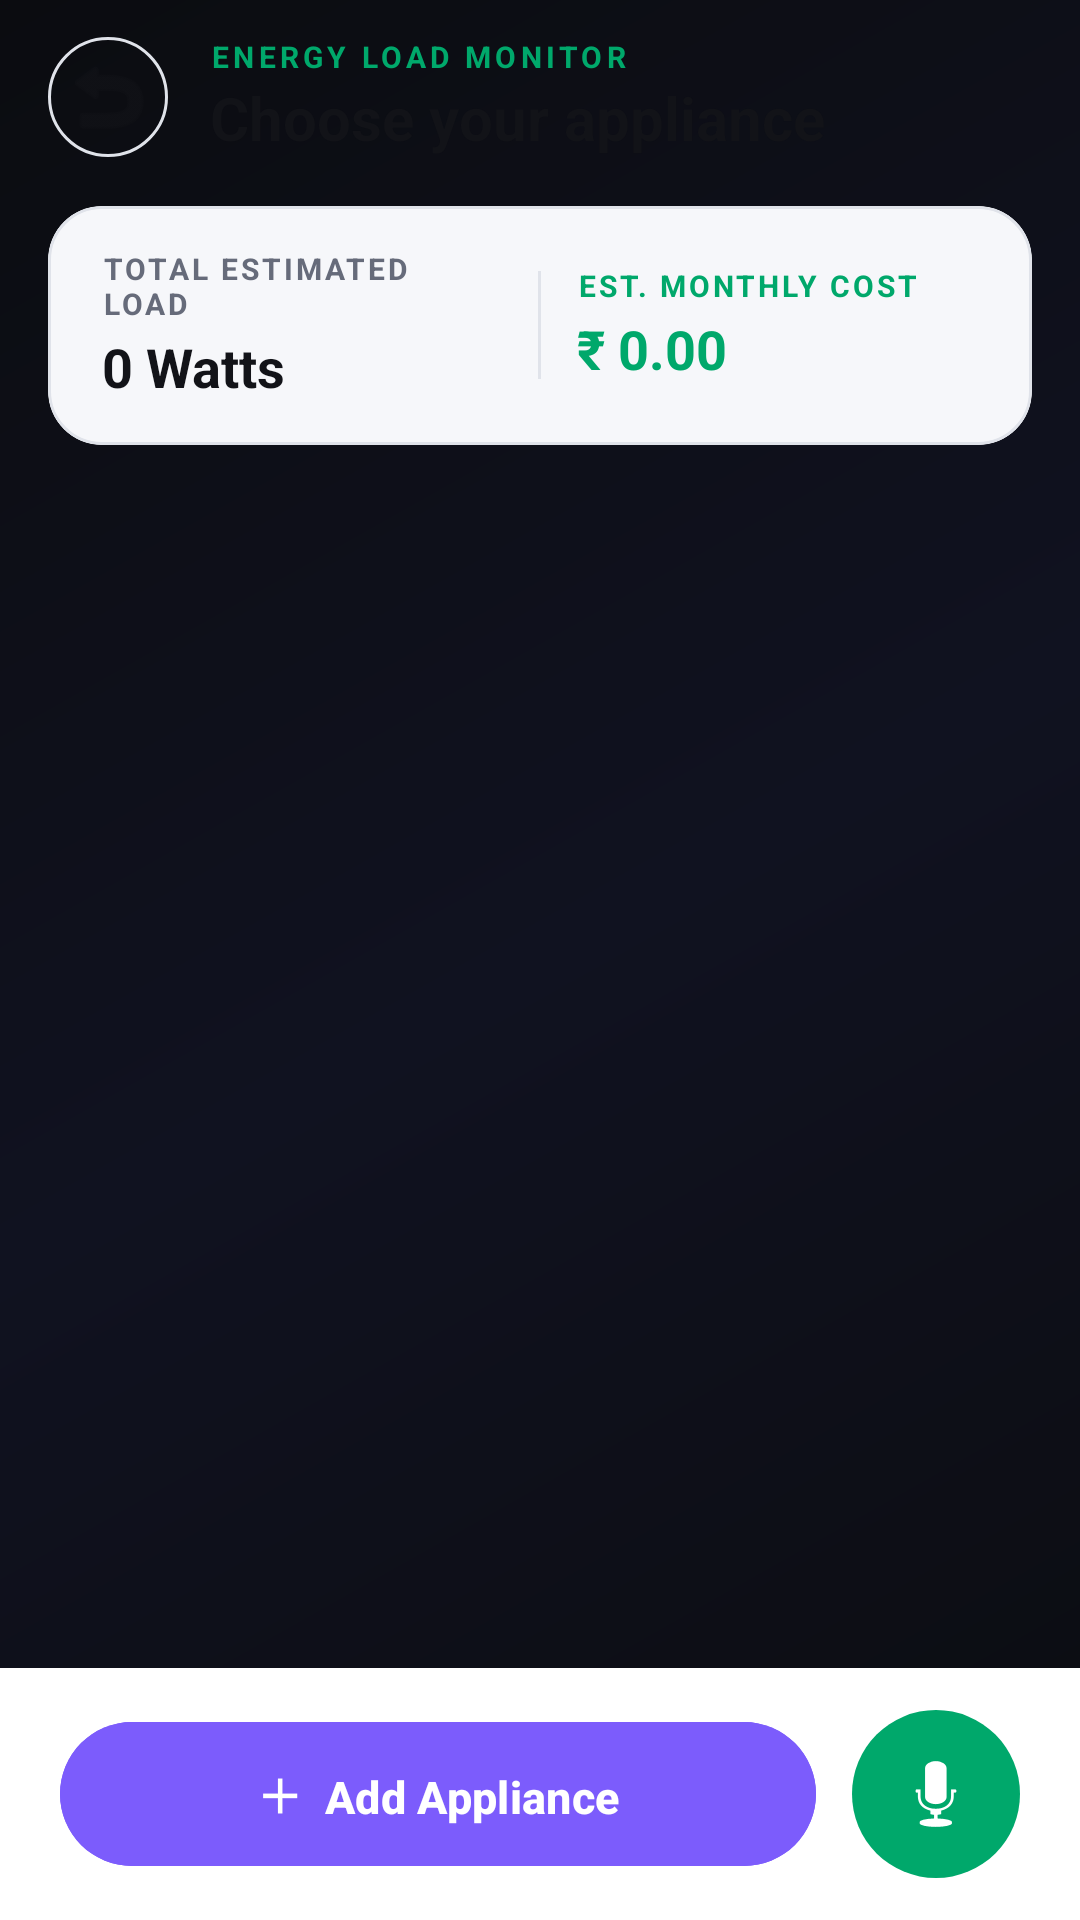

Icon bounding boxes for this 1080 x 1920 phone screenshot, format (x1, y1, x2, y2):
Voice Input: (852, 1710, 1020, 1878)
